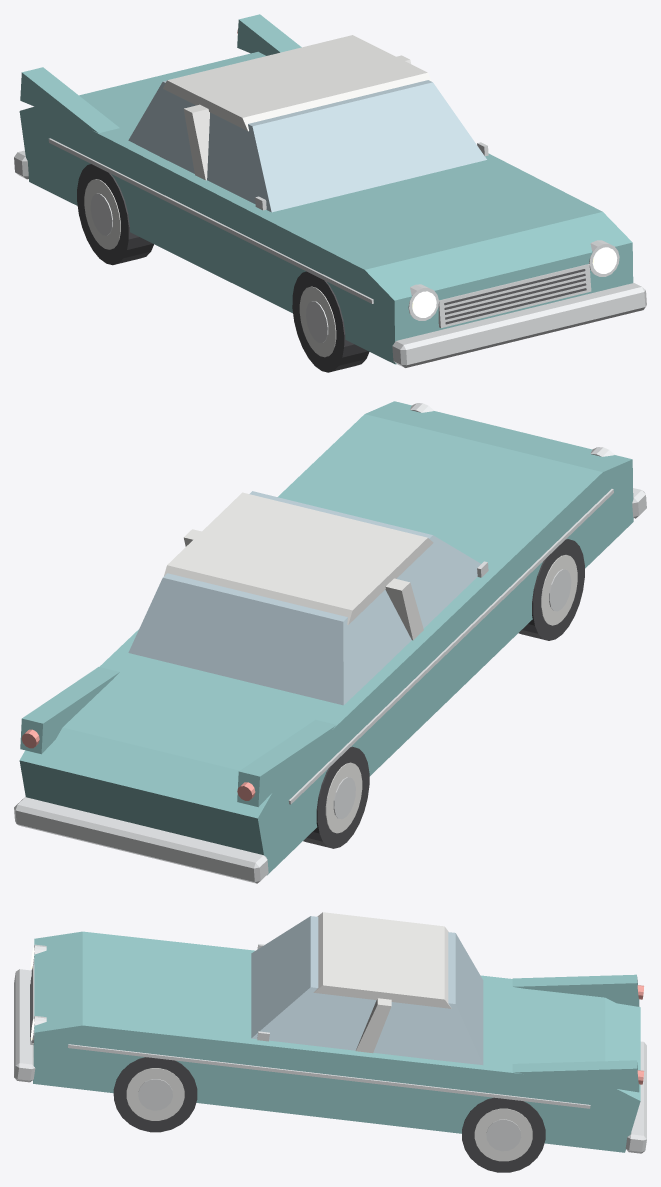
File: car_b.glb
3 views of the same model, one above another, from view 1: azimuth 30°, elevation 25°; view 2: azimuth 150°, elevation 25°; view 3: azimuth 270°, elevation 25° (orthographic). The views are drawn at different scales.
Parts seen in each view (by area): view 1: car_b_car_b, car_b_glass, car_b_chrome, car_b_car_w, car_b_rubber, car_b_paint_w, car_b_dark, car_b_lamp_glass; view 2: car_b_car_b, car_b_glass, car_b_car_w, car_b_chrome, car_b_rubber, car_b_paint_w; view 3: car_b_car_b, car_b_glass, car_b_car_w, car_b_chrome, car_b_rubber, car_b_paint_w.
Part boxes in pixels (x1,y1,x2,y2): car_b_car_b: (19, 14, 633, 364); car_b_glass: (128, 80, 486, 212); car_b_chrome: (14, 138, 646, 367); car_b_car_w: (163, 35, 431, 180); car_b_rubber: (77, 164, 369, 372); car_b_paint_w: (84, 179, 336, 357); car_b_dark: (444, 269, 586, 324); car_b_lamp_glass: (412, 247, 617, 317); car_b_car_b: (19, 401, 633, 875); car_b_glass: (128, 491, 480, 705); car_b_car_w: (164, 492, 433, 640); car_b_chrome: (14, 403, 646, 883); car_b_rubber: (303, 539, 584, 848); car_b_paint_w: (325, 555, 577, 833); car_b_car_b: (33, 931, 640, 1152); car_b_glass: (251, 916, 483, 1064); car_b_car_w: (313, 912, 451, 1053); car_b_chrome: (14, 944, 646, 1153); car_b_rubber: (113, 1057, 545, 1172); car_b_paint_w: (126, 1068, 532, 1161).
Bounding box in the file's own units: 1.96 × 1.66 × 5.41.
